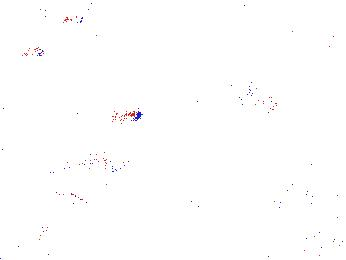glassfish: (39, 150, 133, 184)
red belly glassfish: (231, 85, 277, 114), (84, 104, 143, 125), (38, 8, 85, 27), (5, 43, 47, 62)
